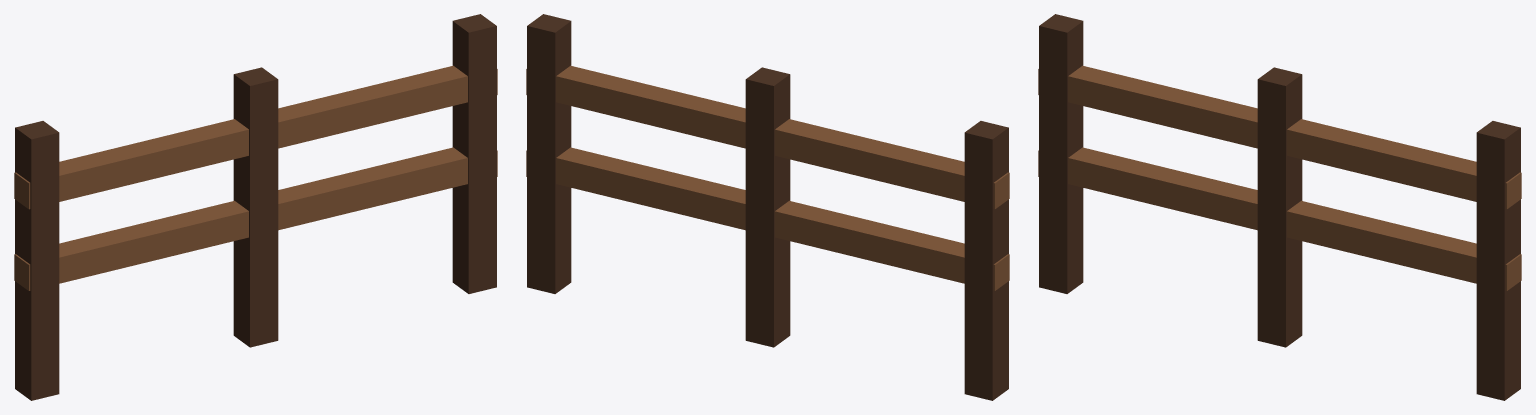
File: water_trough.glb
The picture shows the model from 3 angles, left to right: view 1: azimuth 30°, elevation 25°; view 2: azimuth 150°, elevation 25°; view 3: azimuth 330°, elevation 25°; orthographic projection.
Parts seen in each view (by area): view 1: rail_a, rail_b, post_1, post_0, post_2; view 2: rail_a, rail_b, post_1, post_0, post_2; view 3: rail_a, rail_b, post_1, post_2, post_0.
Boxes of the visible parts, x1,y1,x2,y2 form: rail_a: (14, 147, 497, 290); rail_b: (14, 65, 497, 209); post_1: (233, 67, 278, 347); post_0: (15, 121, 59, 400); post_2: (452, 14, 496, 293); rail_a: (526, 147, 1009, 290); rail_b: (526, 65, 1009, 209); post_1: (745, 67, 790, 347); post_0: (964, 121, 1008, 400); post_2: (527, 14, 571, 293); rail_a: (1038, 147, 1521, 290); rail_b: (1038, 65, 1521, 209); post_1: (1257, 67, 1302, 347); post_2: (1476, 121, 1520, 400); post_0: (1039, 14, 1083, 293).
Size of what is drawn, in the model's own units: 3 by 1.6 by 0.18.
